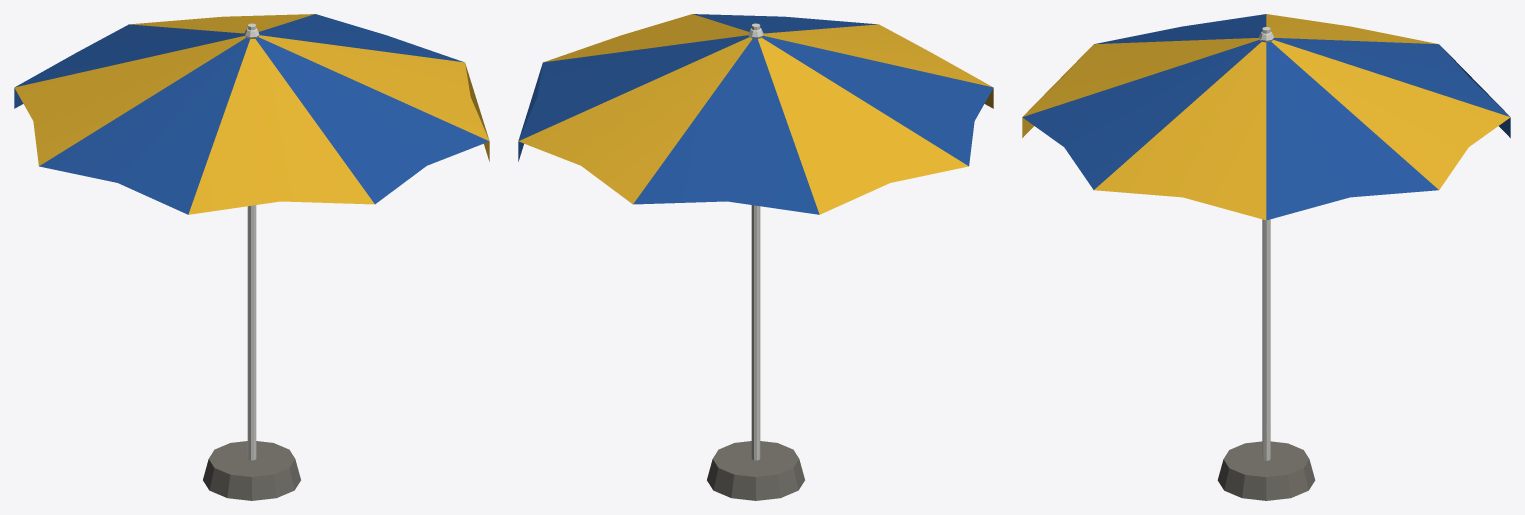
File: umbrella_blue_yellow.glb
The picture shows the model from 3 angles, left to right: view 1: azimuth 30°, elevation 25°; view 2: azimuth 150°, elevation 25°; view 3: azimuth 270°, elevation 25°; orthographic projection.
Visible parts, largest first — view 1: umbrella_blue_yellow; view 2: umbrella_blue_yellow; view 3: umbrella_blue_yellow.
Part boxes in pixels (x1,y1,x2,y2): umbrella_blue_yellow: (14,14,489,500); umbrella_blue_yellow: (518,14,993,500); umbrella_blue_yellow: (1022,14,1510,500).
Size of the model in its own units: 2.5 by 2.55 by 2.5.
Materials: 1 (1 with a texture image).
